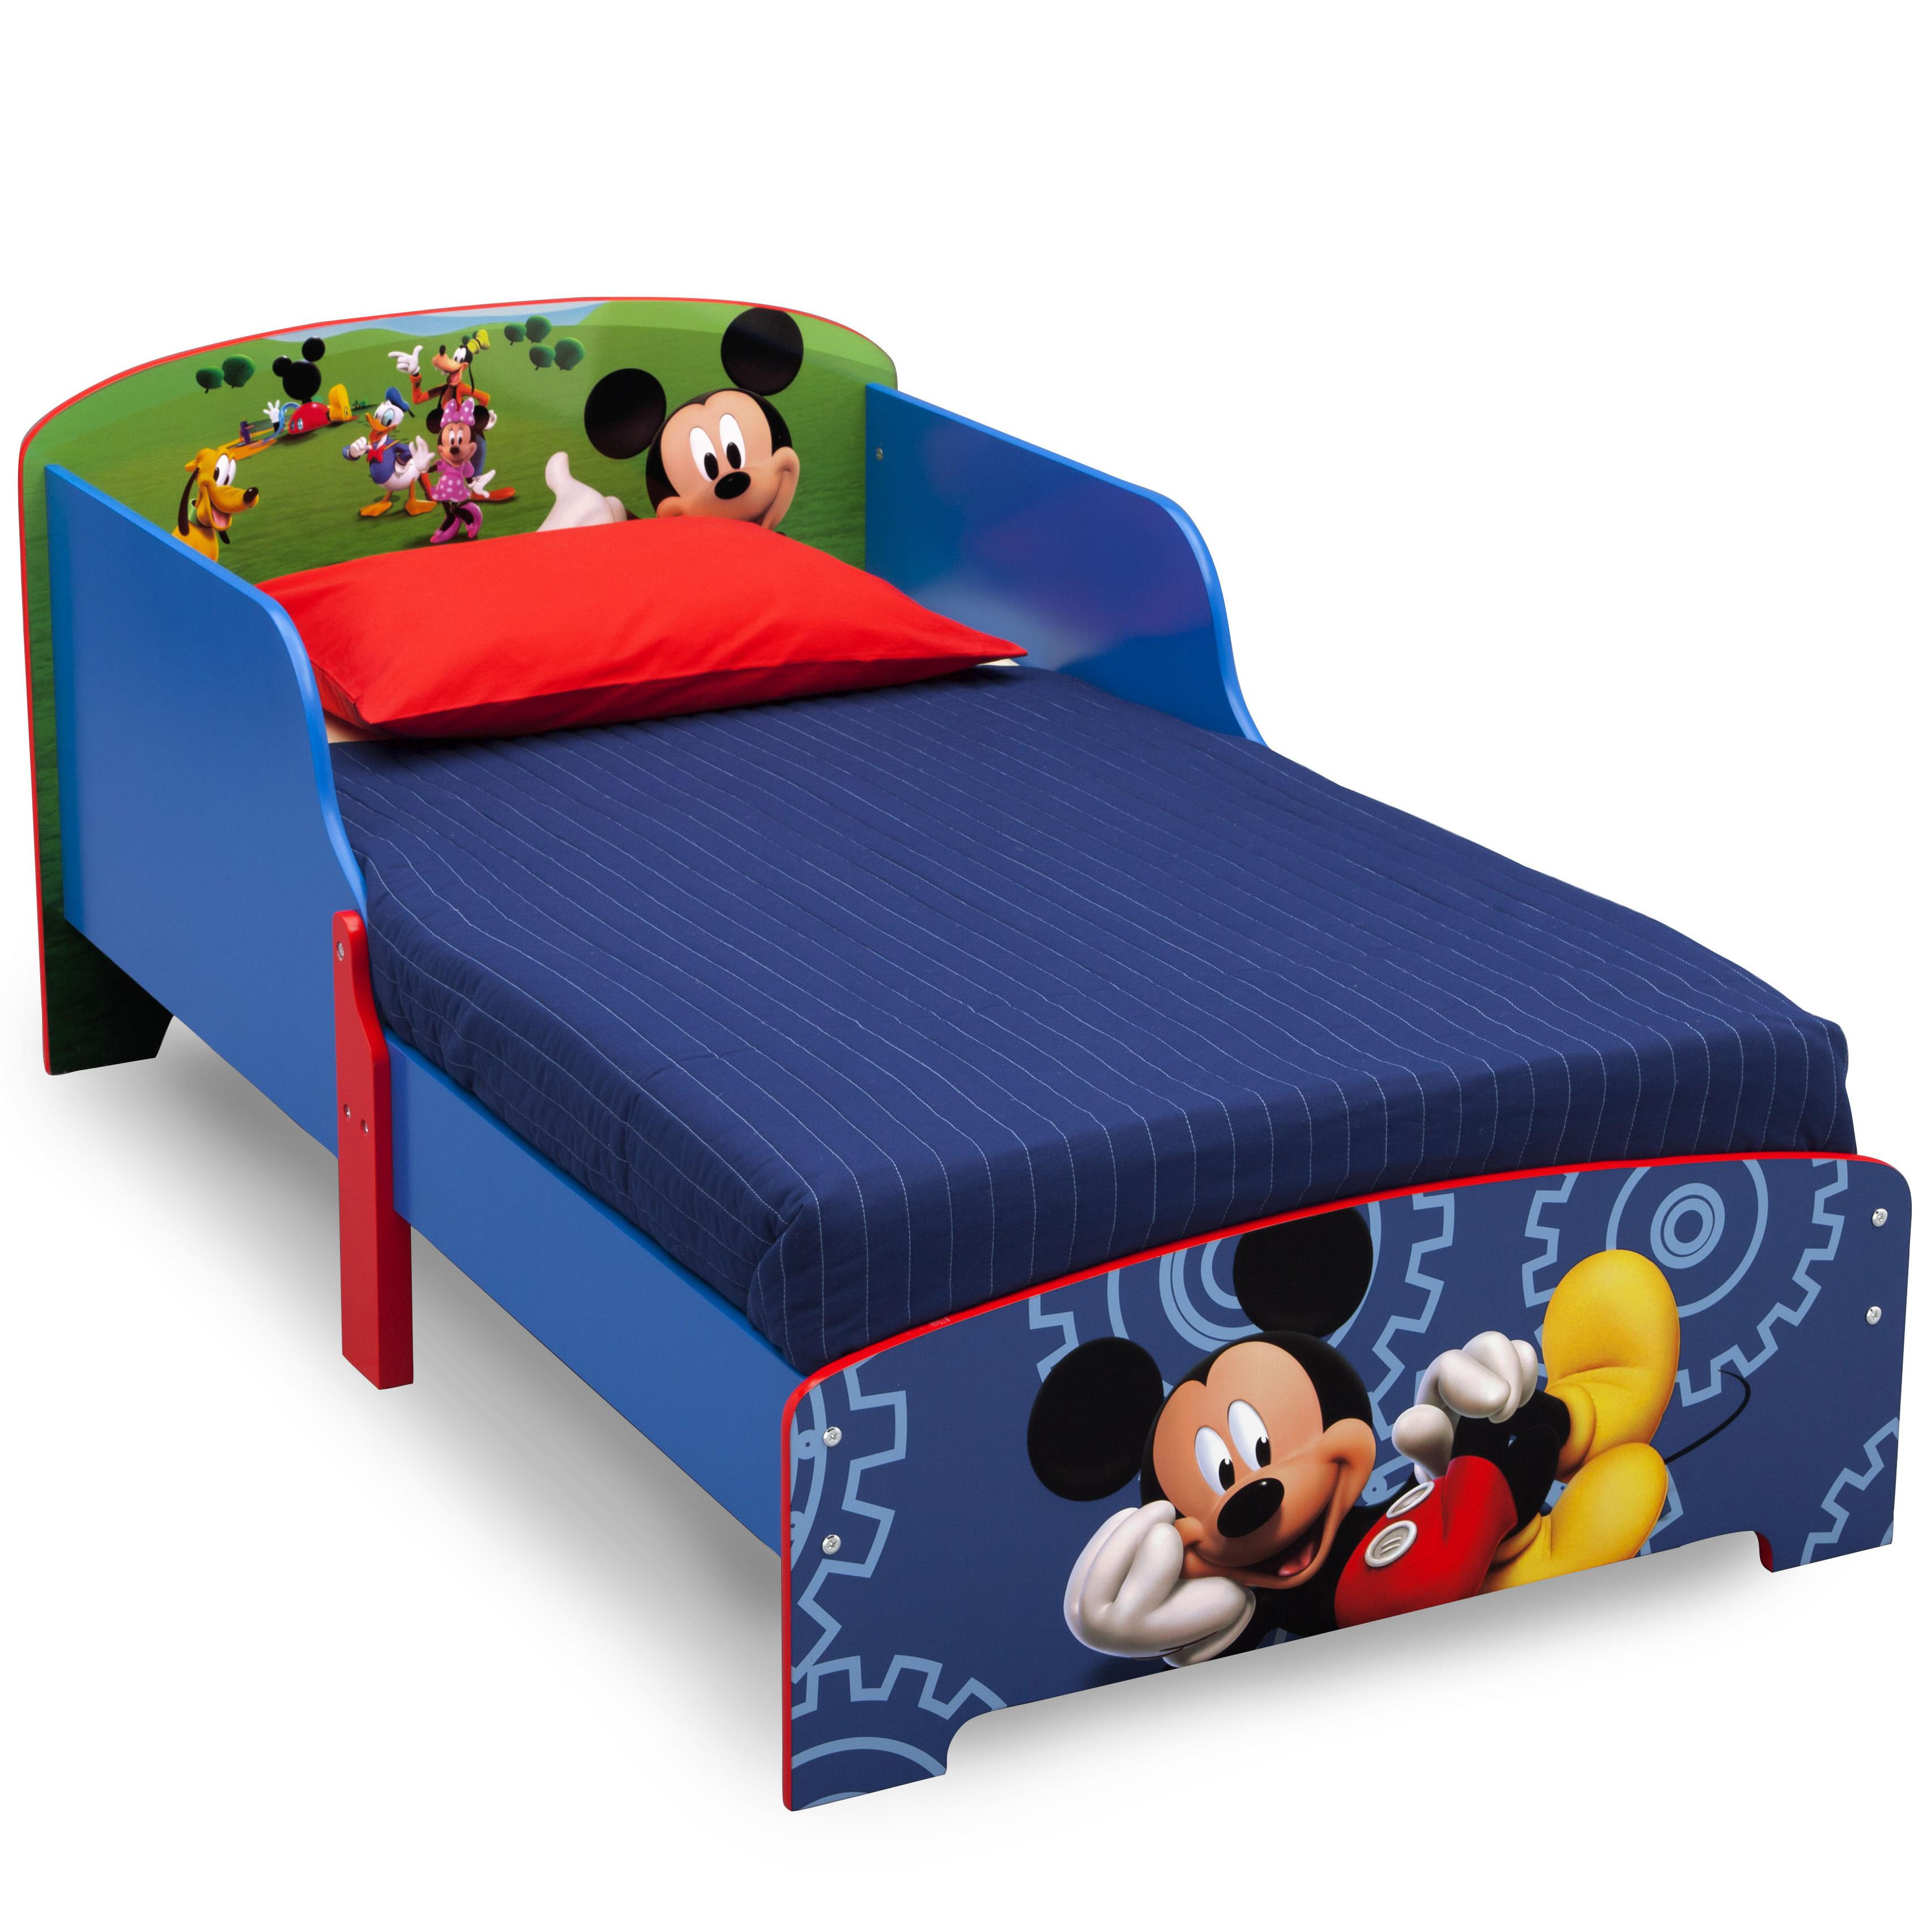bed: (7, 280, 1931, 1836)
